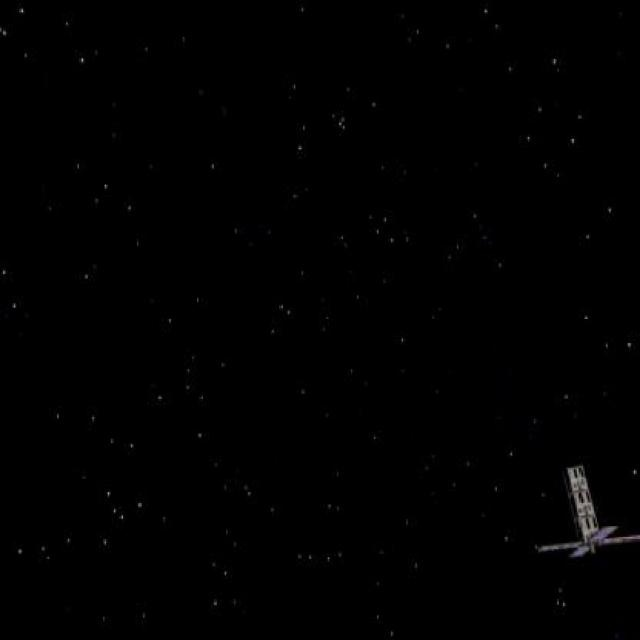medium_debris: (540, 460, 640, 580)
